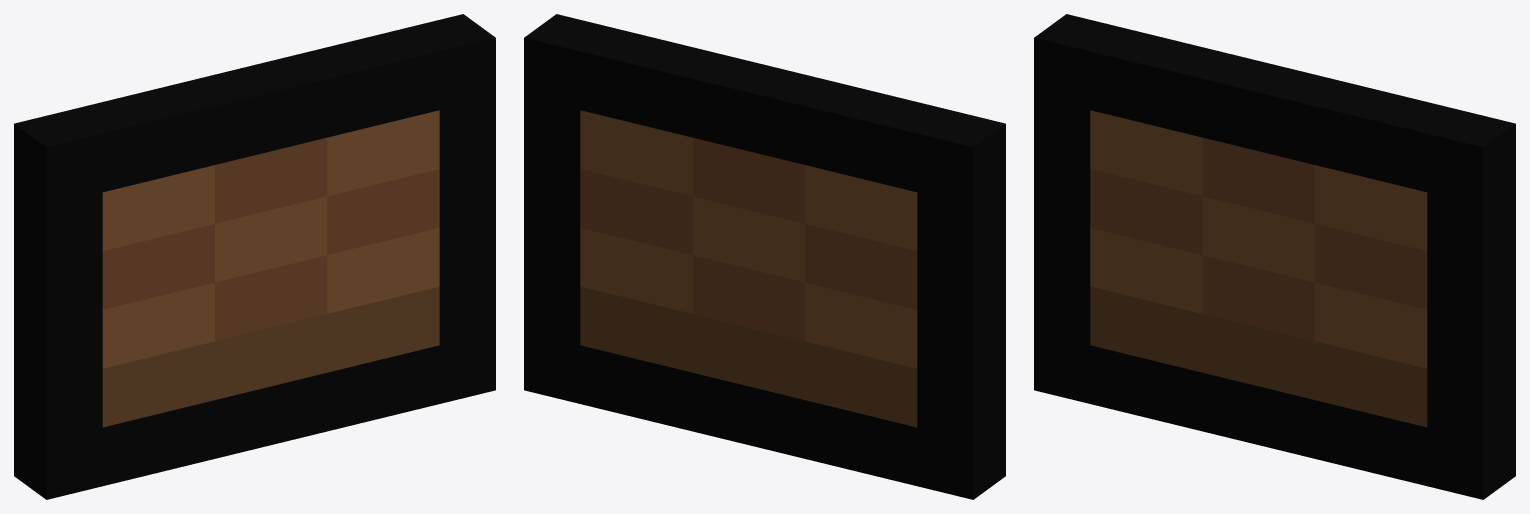
The model's file is Brown Carpet.glb.
The picture shows the model from 3 angles, left to right: view 1: azimuth 30°, elevation 25°; view 2: azimuth 150°, elevation 25°; view 3: azimuth 330°, elevation 25°; orthographic projection.
Visible parts, largest first — view 1: generated(Clone); view 2: generated(Clone); view 3: generated(Clone).
Boxes of the visible parts, x1,y1,x2,y2 form: generated(Clone): (14, 14, 495, 499); generated(Clone): (524, 14, 1005, 499); generated(Clone): (1034, 14, 1515, 499).
Bounding box in the file's own units: 8 × 6 × 1.
1 material, 1 textured.
